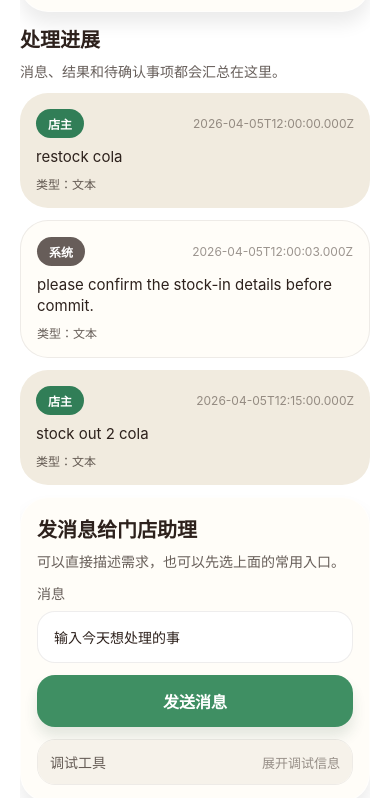
it: ChatScreen › shows a recoverable error when voice upload PUT fails
This screenshot has width=390, height=798.
(page scrolled)
Step 1. Click the button labelled "调试工具 展开调试信息" → (78, 762), box [38, 740, 352, 784]
(page scrolled)
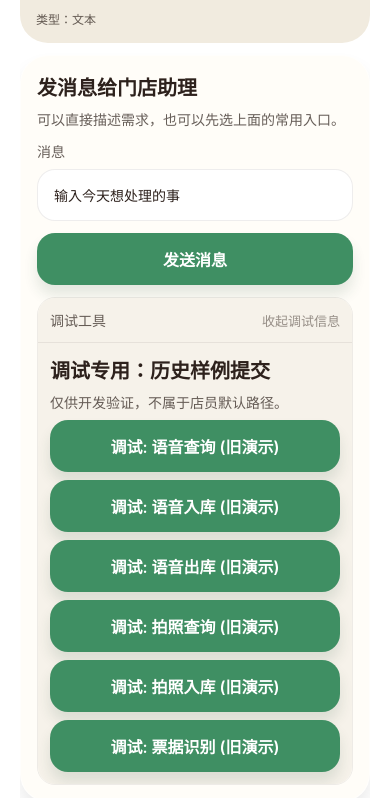
Now the text "调试: 语音查询 (旧演示)" is shown, box [110, 434, 280, 458]
Step 2. Click the button "调试: 语音查询 (旧演示)" → (195, 446), box [50, 420, 340, 472]
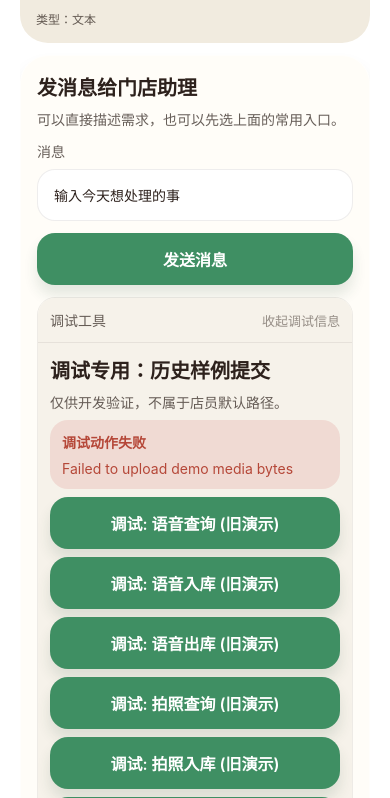
Now the text "Failed to upload demo media bytes" is shown, box [62, 460, 328, 477]
